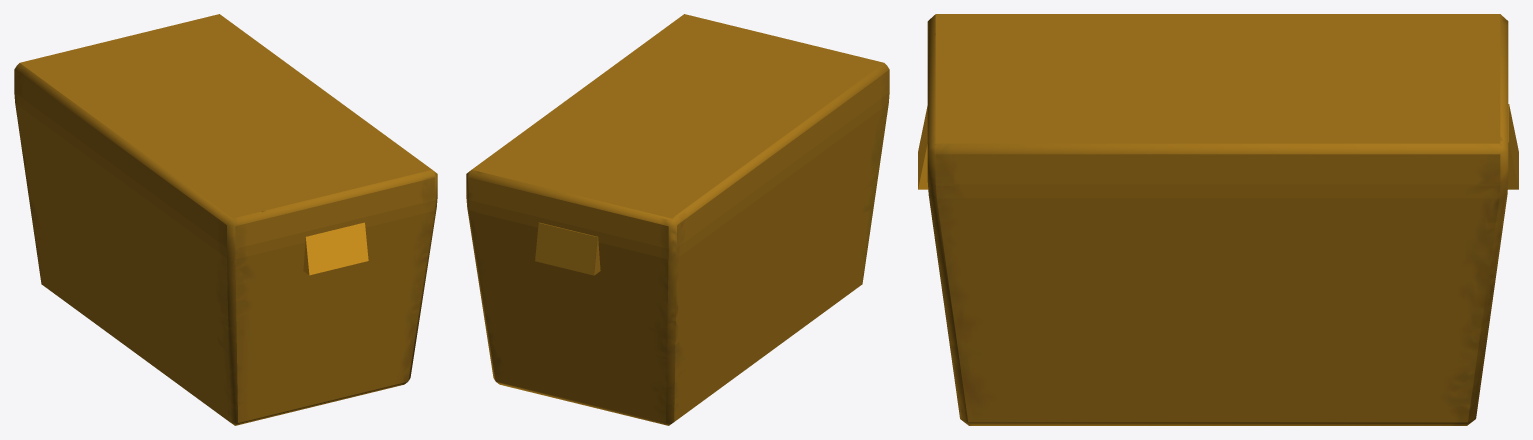
3 renders of one model, left to right at view 1: azimuth 30°, elevation 25°; view 2: azimuth 150°, elevation 25°; view 3: azimuth 270°, elevation 25°, orthographic. The views are drawn at different scales.
Parts seen in each view (by area): view 1: Cube, Cube.001; view 2: Cube, Cube.002; view 3: Cube, Cube.002, Cube.001.
Part boxes in pixels (<box>): Cube: <box>14,14,437,425</box>; Cube.001: <box>303,222,368,275</box>; Cube: <box>466,14,889,425</box>; Cube.002: <box>535,222,600,275</box>; Cube: <box>927,14,1508,425</box>; Cube.002: <box>1508,104,1518,189</box>; Cube.001: <box>918,106,928,189</box>.
Size of the model in its own units: 2 by 2 by 3.72.
Materials: 1 (1 with a texture image).
